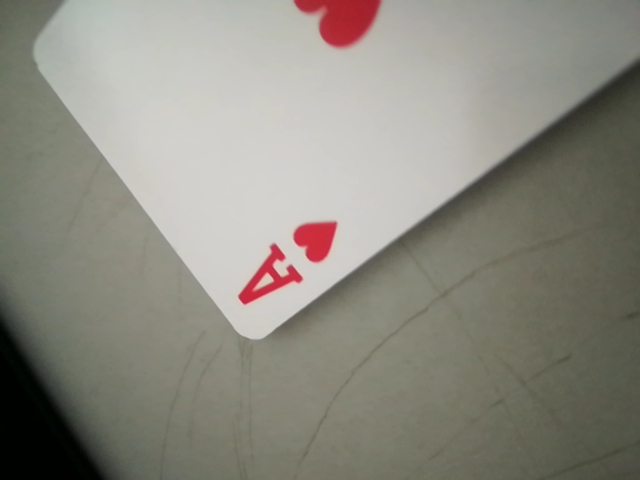hx a: (234, 222, 335, 315)
